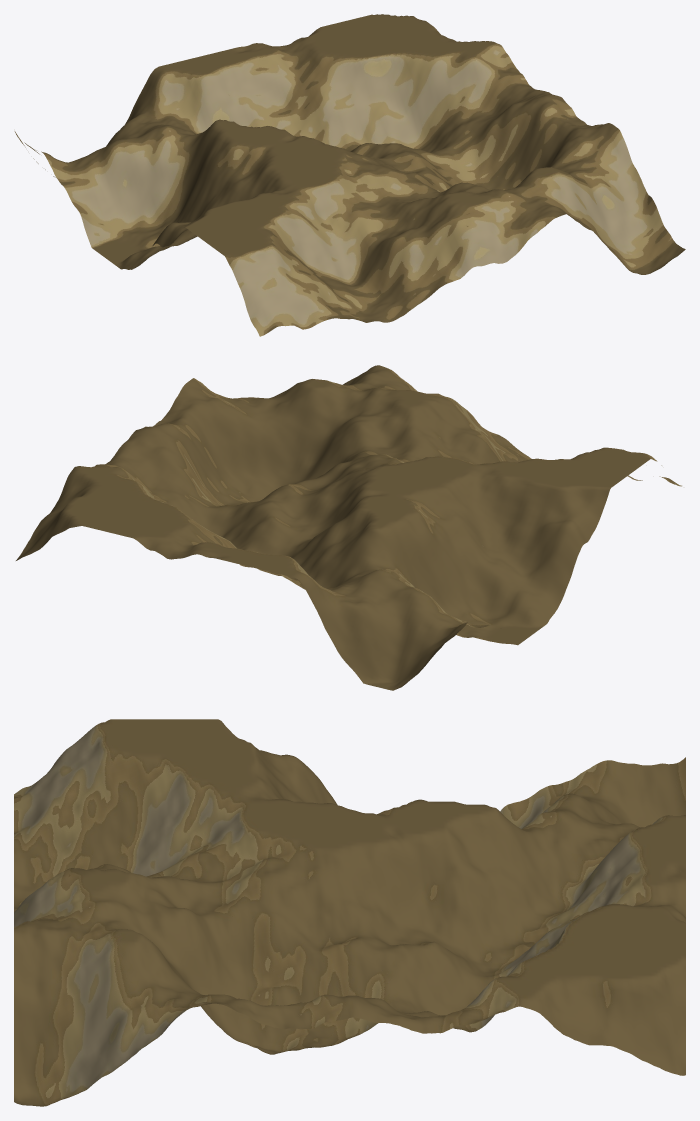
3 renders of one model, top to bottom at view 1: azimuth 30°, elevation 25°; view 2: azimuth 150°, elevation 25°; view 3: azimuth 270°, elevation 25°, orthographic. The views are drawn at different scales.
Visible parts, largest first — view 1: Landscape.1; view 2: Landscape.1; view 3: Landscape.1.
Boxes of the visible parts, x1=… form: Landscape.1: x1=14, y1=14, x2=685, y2=336; Landscape.1: x1=16, y1=365, x2=681, y2=690; Landscape.1: x1=14, y1=719, x2=685, y2=1106.
Size of the model in its own units: 1000 by 200 by 1000.
1 material, 1 textured.
